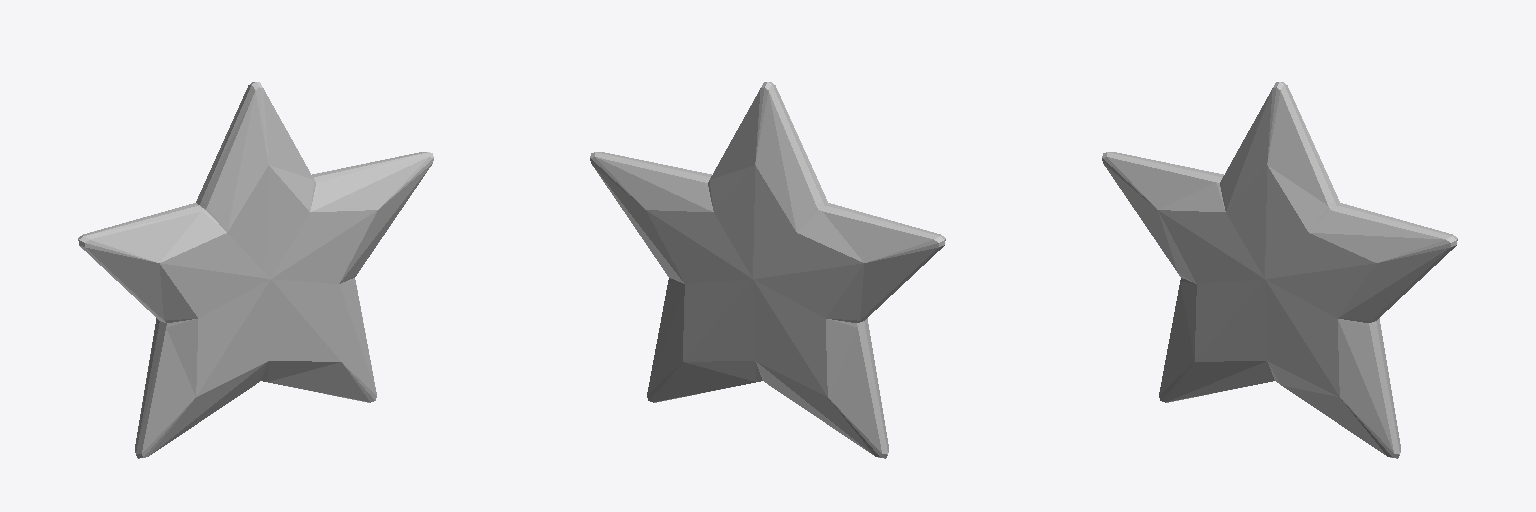
The model's file is star.obj.
3 views of the same model, side by side, from view 1: azimuth 30°, elevation 25°; view 2: azimuth 150°, elevation 25°; view 3: azimuth 330°, elevation 25° (orthographic).
Visible parts, largest first — view 1: polySurface4 ornaments:polySurface32; view 2: polySurface4 ornaments:polySurface32; view 3: polySurface4 ornaments:polySurface32.
Part boxes in pixels (left/top/right/bottom): polySurface4 ornaments:polySurface32: left=78, top=82, right=433, bottom=458; polySurface4 ornaments:polySurface32: left=590, top=82, right=945, bottom=458; polySurface4 ornaments:polySurface32: left=1102, top=82, right=1457, bottom=458.
Bounding box in the file's own units: 45 × 42.33 × 6.57.